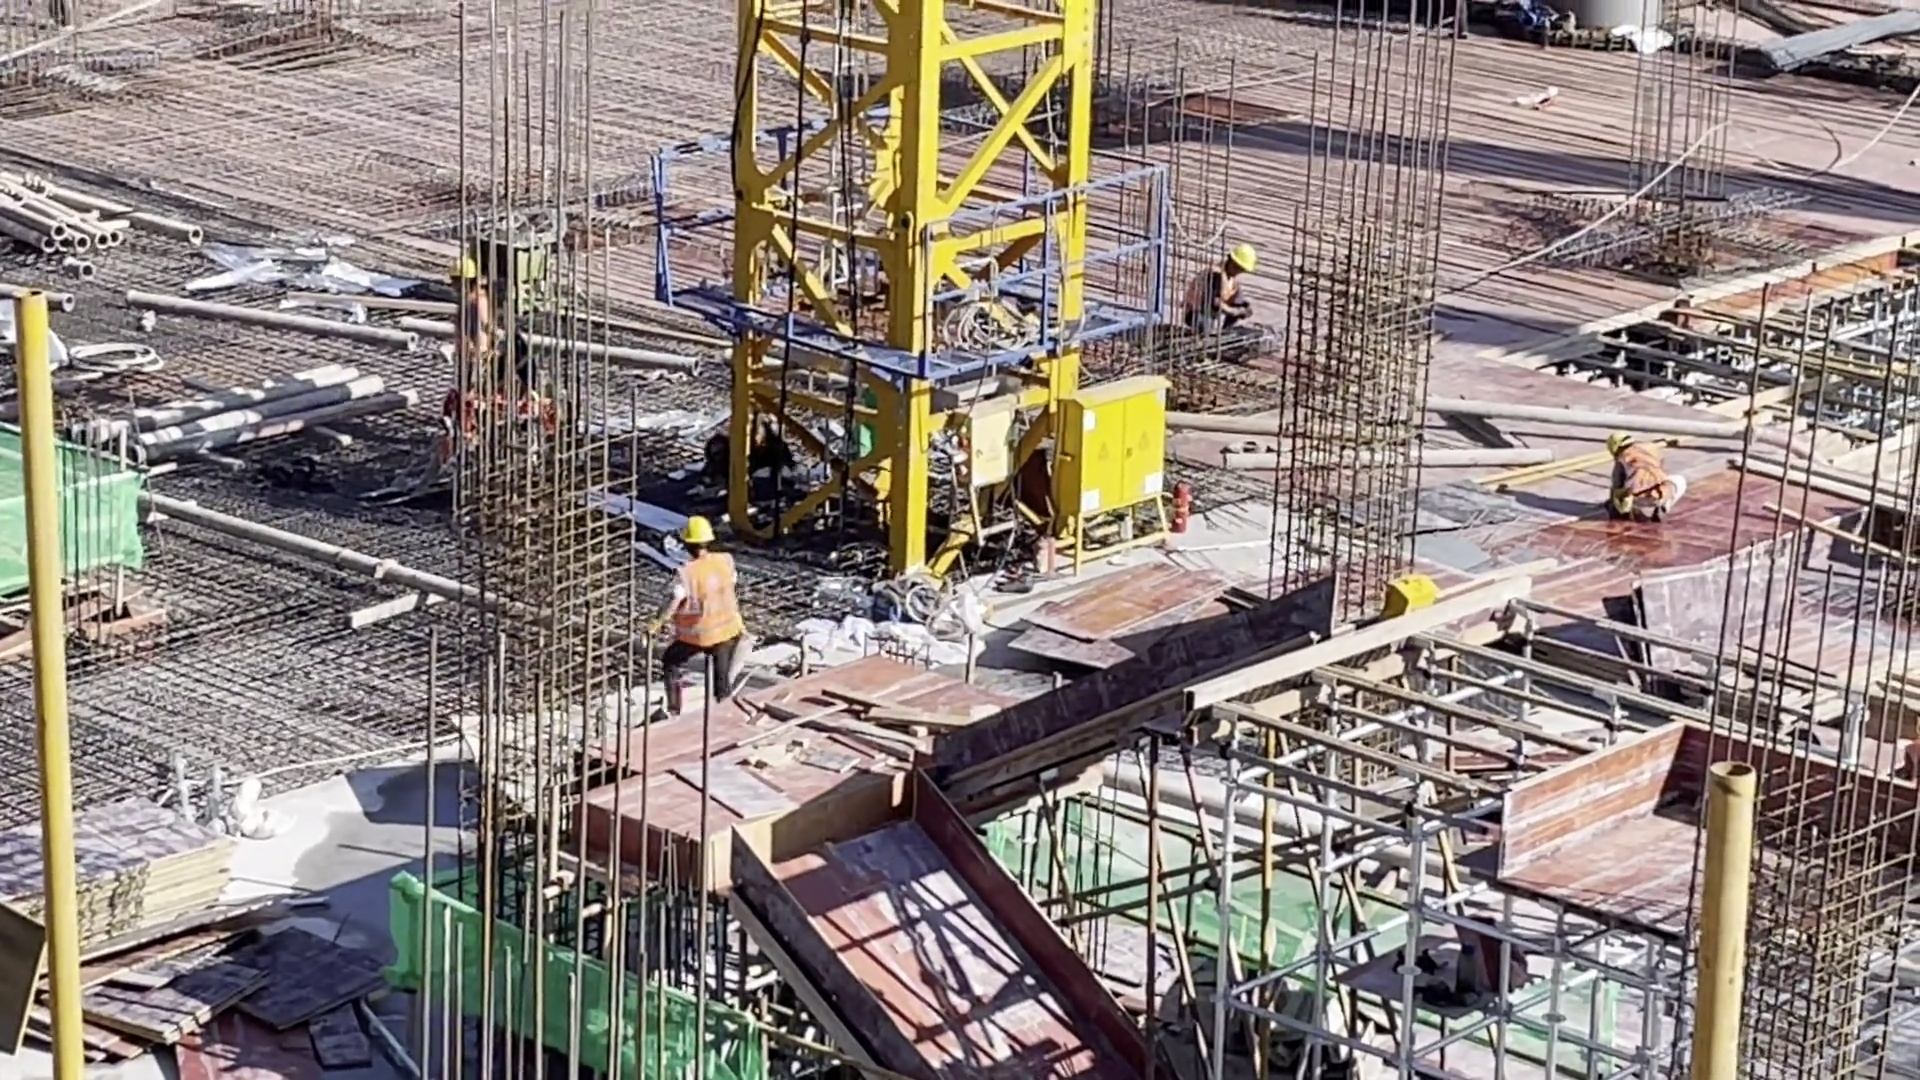board: (78, 943, 384, 1080), (1, 791, 238, 956)
ebox: (1058, 371, 1180, 573), (960, 399, 1024, 566), (1380, 571, 1444, 619)
helmet: (682, 514, 714, 543), (1224, 241, 1253, 268)
person: (655, 512, 744, 708), (1180, 238, 1259, 341), (1600, 432, 1686, 521)
rebar: (1740, 1, 1920, 85)
vest: (674, 550, 738, 647), (679, 552, 742, 645), (1620, 445, 1670, 500)
